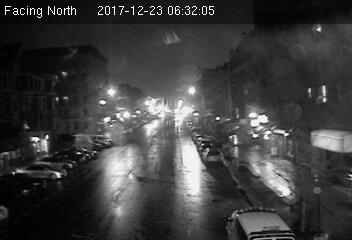car: (202, 147, 223, 164)
police: (225, 204, 303, 240)
